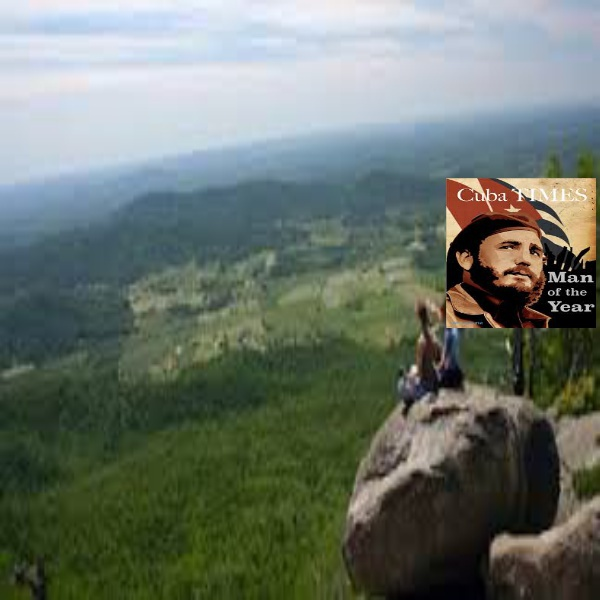time_cover: (446, 175, 593, 328)
